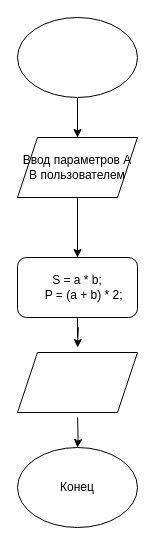
Image size: 155x545. Some labels were removed from this diagram. The centre of each missing label's shape, as x and y in pixels:
"Вывод S и Р" goes at point (77, 382).
"Начало" goes at point (77, 57).
